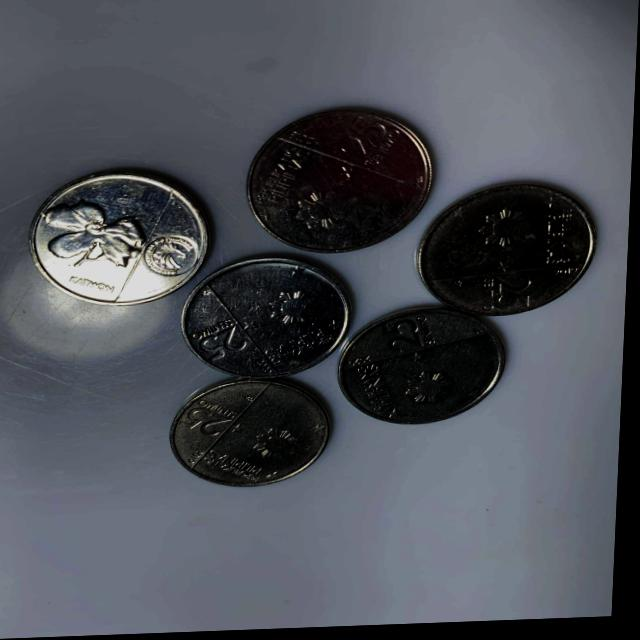25Cent_New_Back: (42, 197, 157, 277)
25Cent_New_Front: (489, 272, 538, 316), (202, 329, 254, 364), (337, 124, 386, 161), (185, 408, 241, 440), (382, 322, 428, 357)
